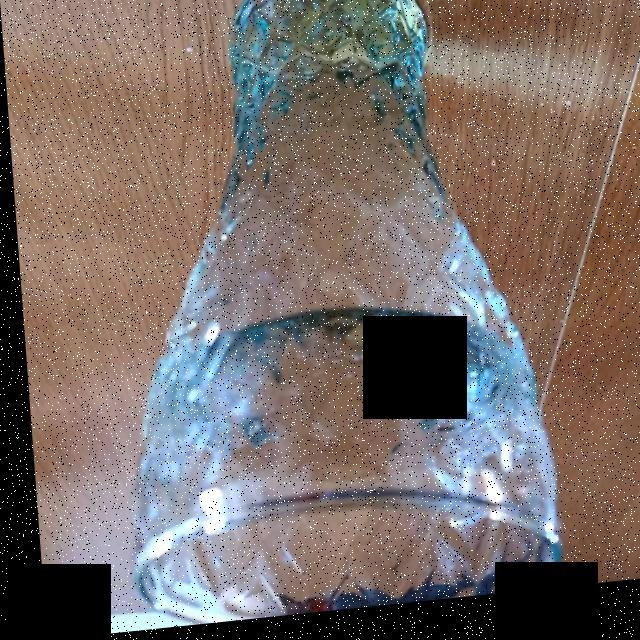water: (142, 1, 524, 558)
